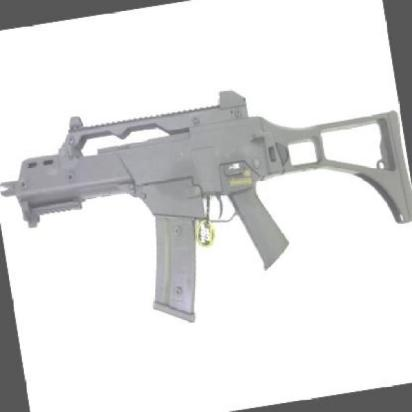Gun: (0, 91, 412, 320)
